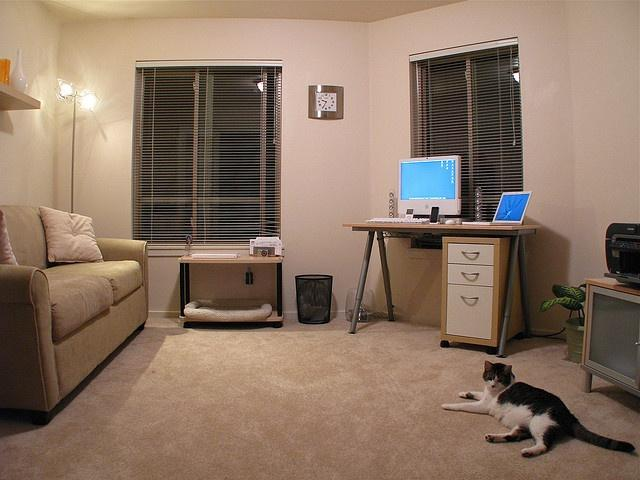AIO PC-Monitor-TV: (396, 154, 461, 216)
Filing Cabinet: (439, 236, 498, 348)
Meja: (176, 249, 284, 296)
